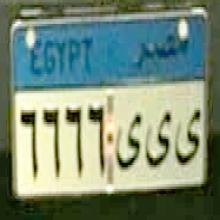6: (41, 100, 61, 182), (63, 103, 84, 179), (19, 101, 38, 184), (86, 98, 105, 180)
yaa: (173, 102, 202, 175), (144, 105, 172, 174), (116, 109, 142, 176)
